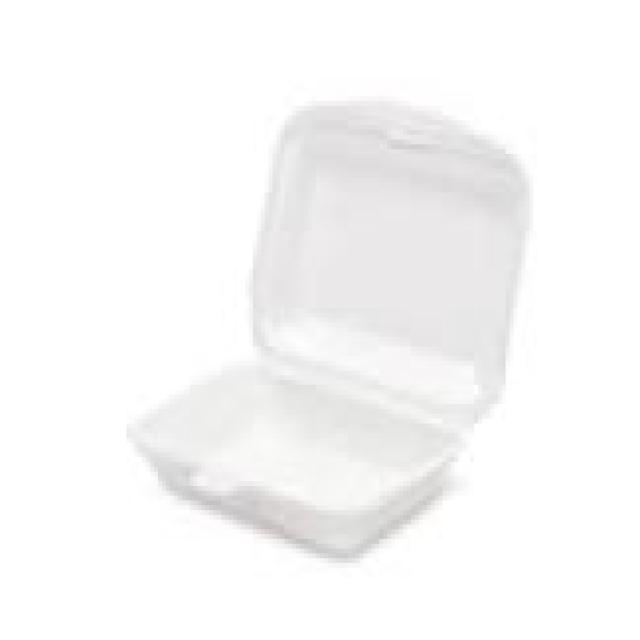Clamshell: (122, 67, 541, 570)
